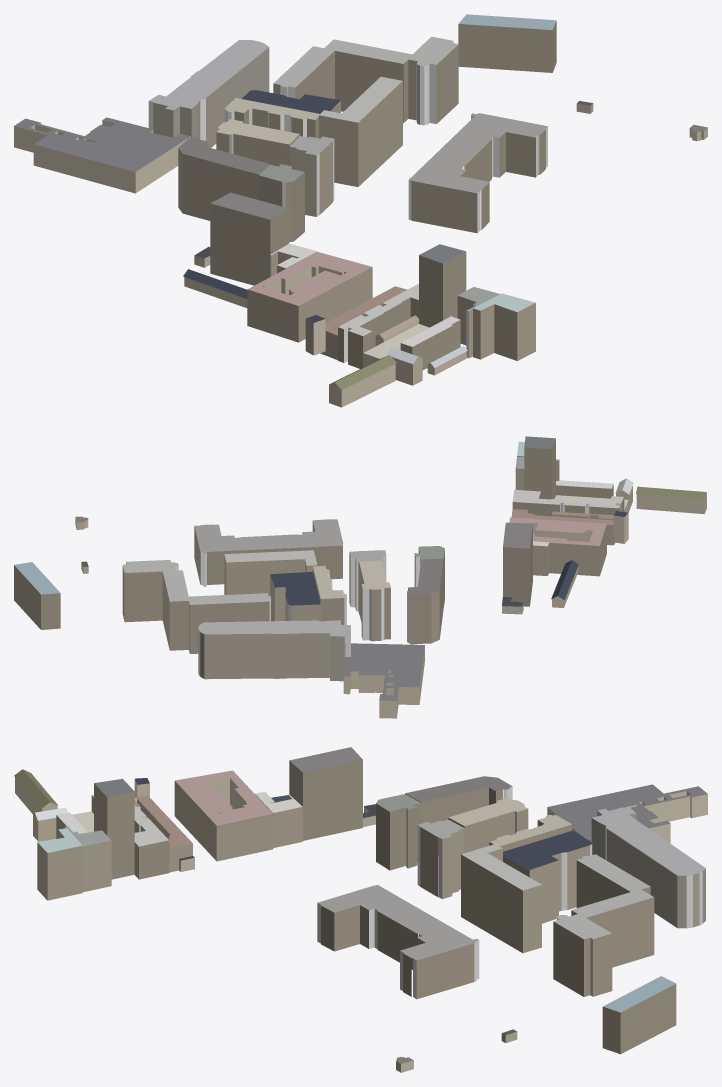
The picture shows the model from 3 angles, top to bottom: view 1: azimuth 30°, elevation 25°; view 2: azimuth 150°, elevation 25°; view 3: azimuth 270°, elevation 25°; orthographic projection. The views are drawn at different scales.
Parts seen in each view (by area): view 1: tuile; view 2: tuile; view 3: tuile.
Part boxes in pixels (x1=…): tuile: x1=14, y1=14, x2=707, y2=407; tuile: x1=14, y1=436, x2=706, y2=718; tuile: x1=14, y1=747, x2=707, y2=1072.
Size of the model in its own units: 251 by 38.49 by 272.
